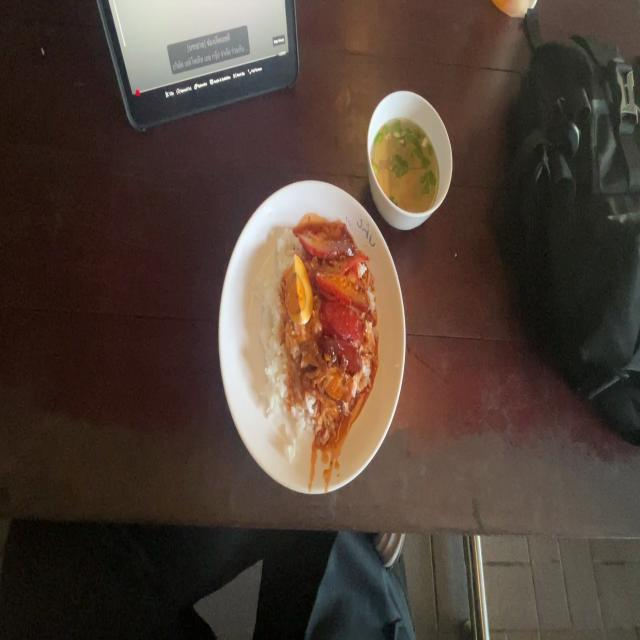red_pork_and_crispy_pork: (284, 252, 315, 326)
stir_fried_basil: (319, 297, 364, 343)
